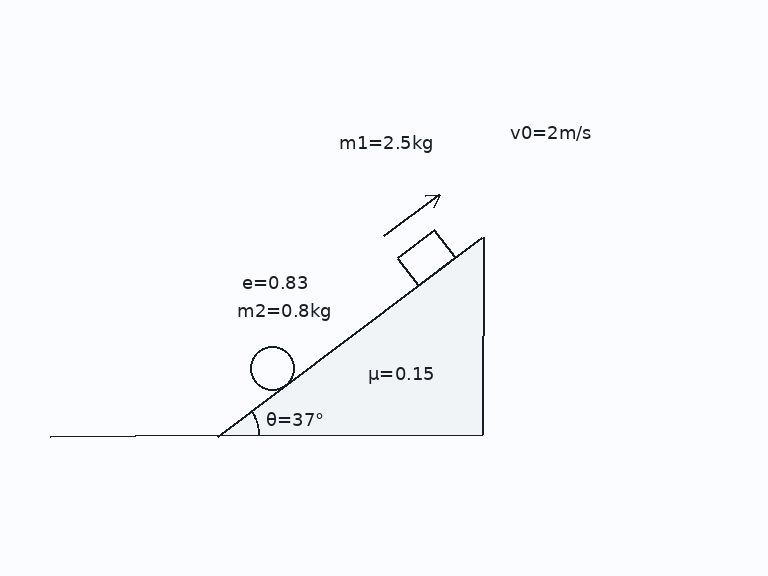ball: (248, 344, 296, 392)
block: (395, 228, 457, 287)
ramp: (217, 234, 485, 437)
